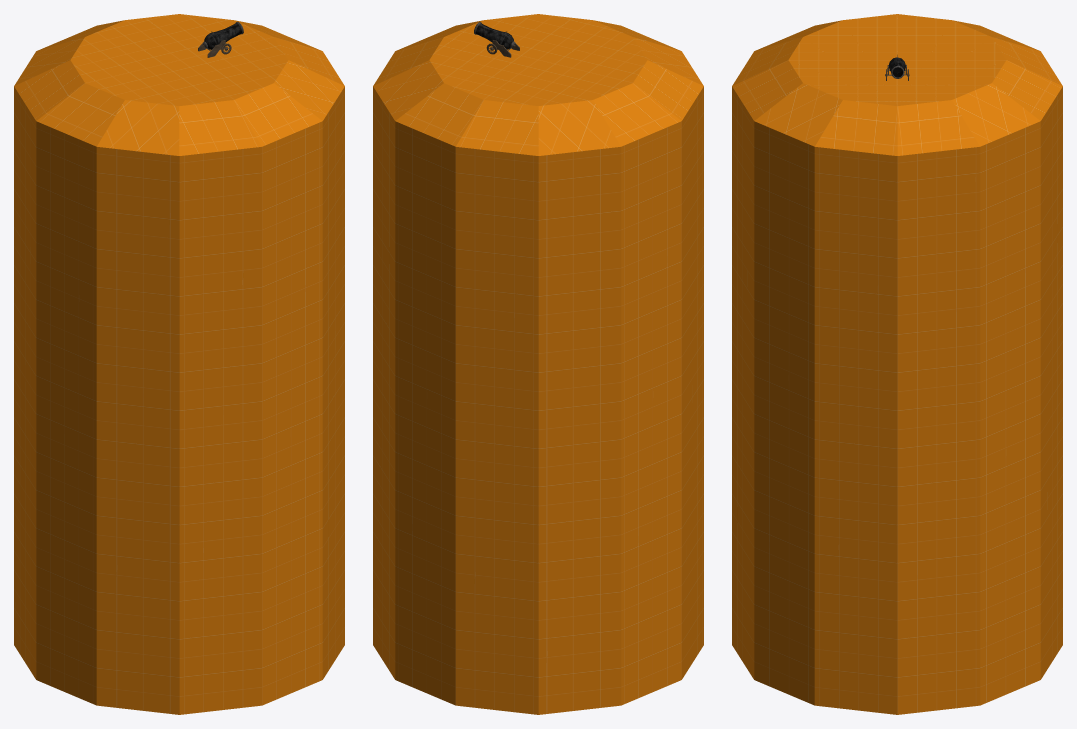
The model's file is map.obj.
The picture shows the model from 3 angles, left to right: view 1: azimuth 30°, elevation 25°; view 2: azimuth 150°, elevation 25°; view 3: azimuth 270°, elevation 25°; orthographic projection.
Visible parts, largest first — view 1: Cube.002, cannon; view 2: Cube.002, cannon; view 3: Cube.002.
Part boxes in pixels (bbox=[...]): Cube.002: bbox=[14, 14, 344, 714]; cannon: bbox=[198, 21, 243, 57]; Cube.002: bbox=[373, 14, 703, 714]; cannon: bbox=[474, 22, 519, 57]; Cube.002: bbox=[732, 14, 1062, 714].
Size of what is drawn, in the model's own units: 15.75 by 31.93 by 15.75.
Materials: 2 (2 with a texture image).
